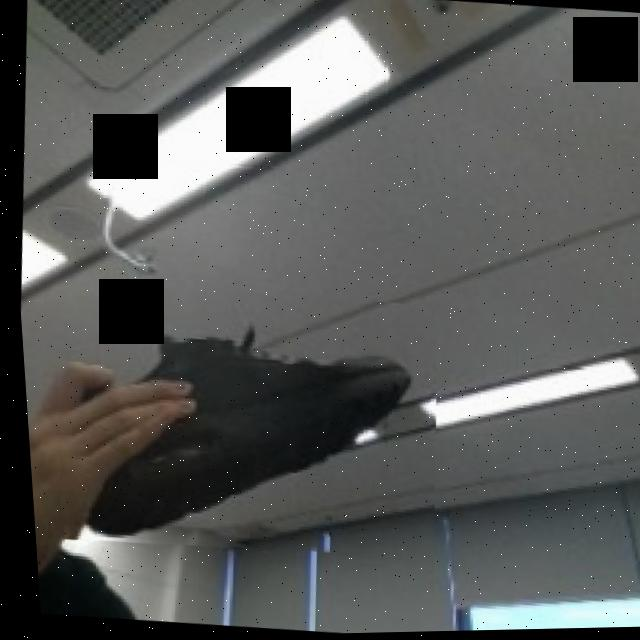shoe: (28, 274, 447, 571)
